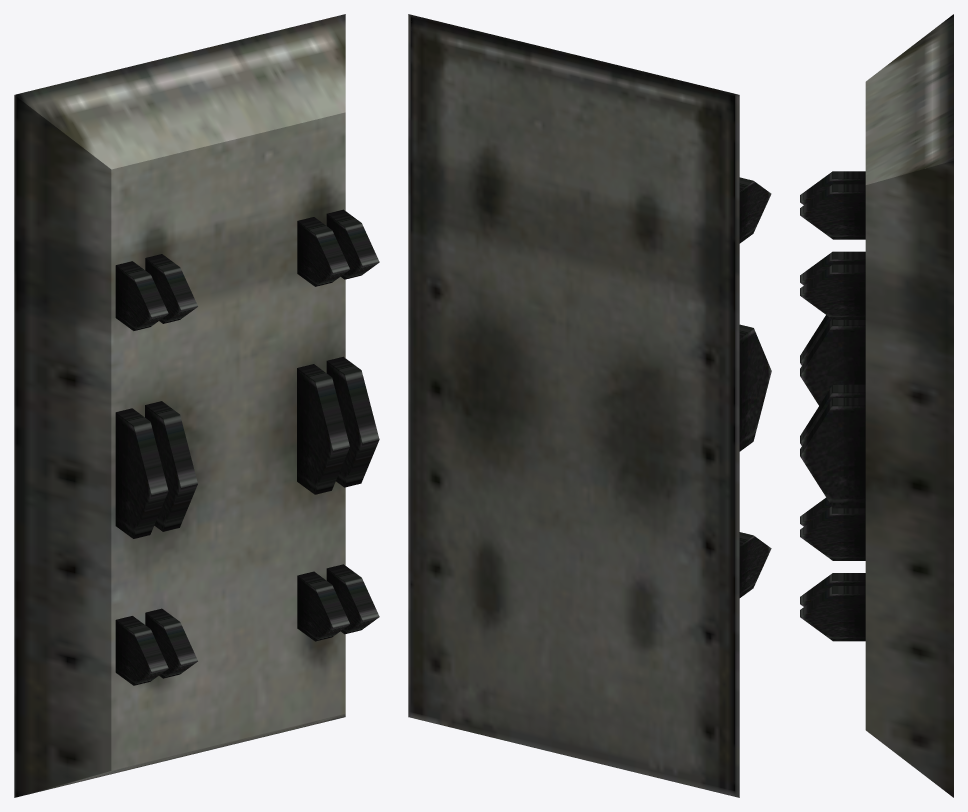
The model's file is Switch-Base.fbx.
3 renders of one model, left to right at view 1: azimuth 30°, elevation 25°; view 2: azimuth 150°, elevation 25°; view 3: azimuth 270°, elevation 25°, orthographic. The views are drawn at different scales.
Visible parts, largest first — view 1: node_id40, node_id28, node_id34, node_id37, node_id31, node_id4, node_id16, node_id10, node_id22, node_id13, node_id19, node_id25 (+1 smaller); view 2: node_id40, node_id28, node_id16, node_id4; view 3: node_id40, node_id37, node_id31, node_id13, node_id19, node_id25, node_id7, node_id34, node_id16, node_id22, node_id10, node_id28 (+1 smaller).
Part boxes in pixels (x1,y1,x2,y2): node_id40: (14, 14, 345, 797); node_id28: (115, 408, 168, 538); node_id34: (297, 364, 349, 494); node_id37: (326, 356, 379, 487); node_id31: (145, 401, 197, 531); node_id4: (115, 616, 168, 685); node_id16: (115, 261, 168, 330); node_id10: (297, 571, 349, 641); node_id22: (297, 217, 349, 286); node_id13: (326, 564, 379, 634); node_id19: (145, 254, 197, 323); node_id25: (326, 209, 379, 279); node_id40: (408, 14, 739, 797); node_id28: (739, 324, 771, 451); node_id16: (739, 177, 771, 243); node_id4: (739, 532, 771, 597); node_id40: (865, 14, 953, 797); node_id37: (800, 397, 865, 508); node_id31: (800, 319, 865, 405); node_id13: (800, 586, 865, 641); node_id19: (800, 184, 865, 239); node_id25: (800, 264, 865, 319); node_id7: (800, 506, 865, 560); node_id34: (800, 384, 865, 445); node_id16: (800, 171, 865, 204); node_id22: (800, 251, 865, 285); node_id10: (800, 573, 865, 606); node_id28: (800, 315, 831, 365).
Bounding box in the file's own units: 0.2527 × 0.512 × 0.1119.
26 materials, 13 textured.
